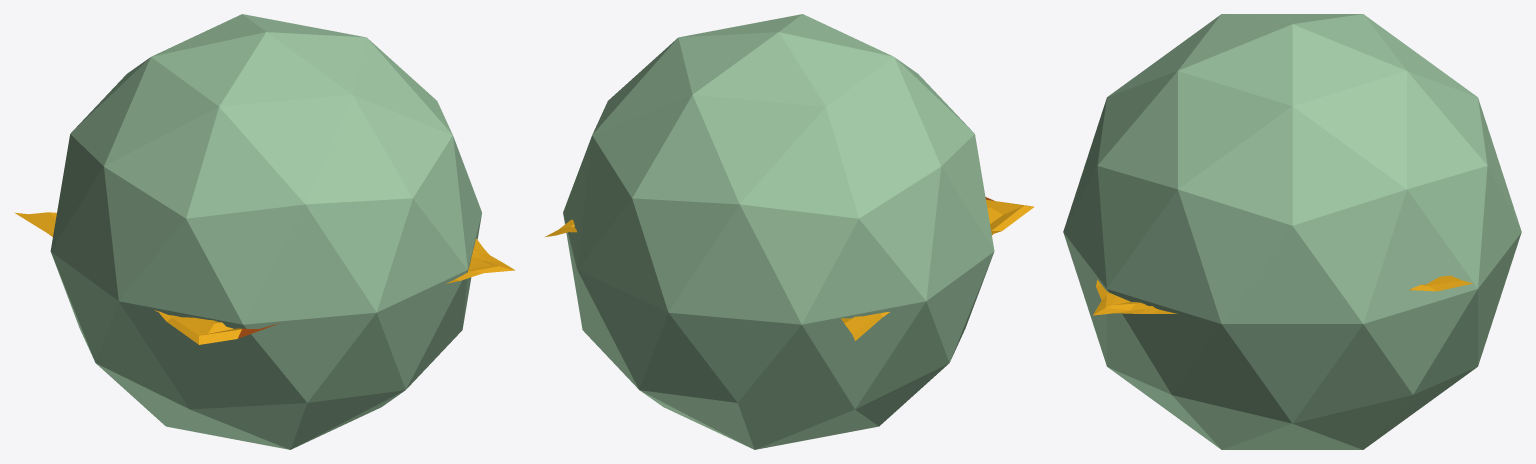
The model's file is JunaDio_Sketchfab.fbx.
3 renders of one model, left to right at view 1: azimuth 30°, elevation 25°; view 2: azimuth 150°, elevation 25°; view 3: azimuth 270°, elevation 25°, orthographic. The views are drawn at different scales.
Parts seen in each view (by area): view 1: Icosphere, Plane.000; view 2: Icosphere, Plane.000; view 3: Icosphere, Plane.000.
Part boxes in pixels (x1=…): Icosphere: x1=50, y1=14, x2=481, y2=449; Plane.000: x1=14, y1=212, x2=515, y2=344; Icosphere: x1=563, y1=14, x2=994, y2=449; Plane.000: x1=544, y1=197, x2=1034, y2=340; Icosphere: x1=1063, y1=14, x2=1521, y2=449; Plane.000: x1=1093, y1=275, x2=1472, y2=315.
Size of the model in its own units: 27788 by 29218 by 29218.
